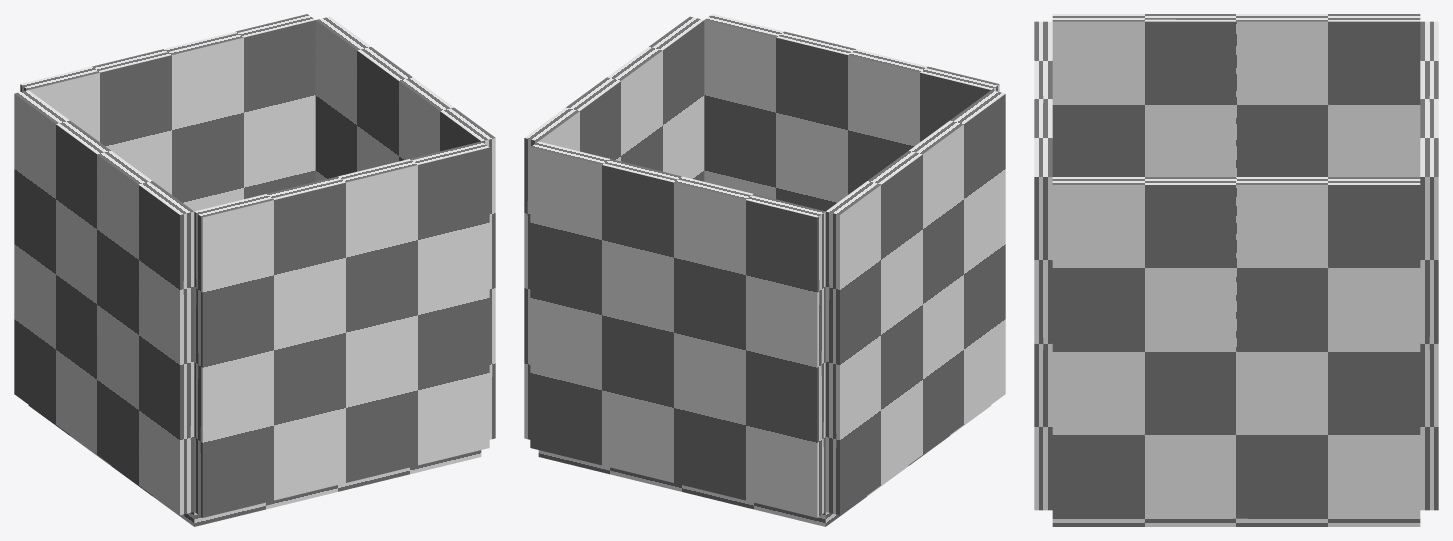
The model's file is MixedRealitySetup.glb.
3 views of the same model, side by side, from view 1: azimuth 30°, elevation 25°; view 2: azimuth 150°, elevation 25°; view 3: azimuth 270°, elevation 25° (orthographic). The views are drawn at different scales.
Parts seen in each view (by area): view 1: Floor (4), Floor (2), Floor (1), Floor (3), Floor; view 2: Floor (1), Floor (2), Floor (4), Floor (3), Floor; view 3: Floor (3), Floor (2), Floor (1), Floor (4), Floor.
Boxes of the visible parts, box(x1,y1,x2,y2) form: Floor (4): box(194, 141, 489, 517); Floor (2): box(14, 90, 194, 515); Floor (1): box(20, 14, 315, 211); Floor (3): box(315, 16, 495, 439); Floor: box(28, 405, 481, 526); Floor (1): box(530, 141, 825, 517); Floor (2): box(825, 90, 1005, 515); Floor (4): box(704, 14, 999, 211); Floor (3): box(524, 16, 704, 439); Floor: box(538, 405, 991, 526); Floor (3): box(1052, 177, 1420, 517); Floor (2): box(1052, 14, 1420, 176); Floor (1): box(1420, 21, 1438, 510); Floor (4): box(1034, 21, 1052, 510); Floor: box(1052, 518, 1420, 526).
Size of the model in its own units: 22 by 21 by 22.
Materials: 5 (2 with a texture image).
